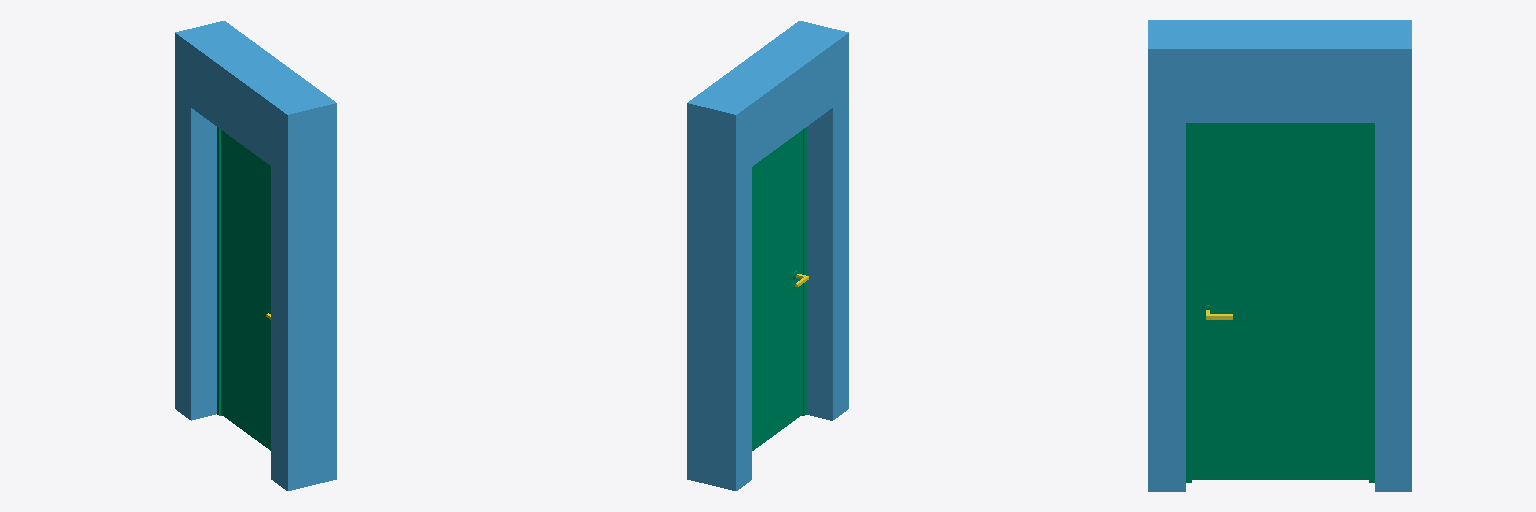
robot.urdf — partnet_ec245748cbad16b1d747a43c11e738e9:
<?xml version="1.0" ?>
<robot name="partnet_ec245748cbad16b1d747a43c11e738e9">
	<link name="base"/>
	<link name="link_0">
		<visual name="outside_frame-1">
			<origin xyz="0 0 0"/>
			<geometry>
				<mesh filename="textured_objs/original-1.obj"/>
			</geometry>
		</visual>
		<visual name="outside_frame-1">
			<origin xyz="0 0 0"/>
			<geometry>
				<mesh filename="textured_objs/original-2.obj"/>
			</geometry>
		</visual>
		<visual name="outside_frame-1">
			<origin xyz="0 0 0"/>
			<geometry>
				<mesh filename="textured_objs/original-3.obj"/>
			</geometry>
		</visual>
		<collision>
			<origin xyz="0 0 0"/>
			<geometry>
				<mesh filename="textured_objs/original-1.obj"/>
			</geometry>
		</collision>
		<collision>
			<origin xyz="0 0 0"/>
			<geometry>
				<mesh filename="textured_objs/original-2.obj"/>
			</geometry>
		</collision>
		<collision>
			<origin xyz="0 0 0"/>
			<geometry>
				<mesh filename="textured_objs/original-3.obj"/>
			</geometry>
		</collision>
	</link>
	<joint name="joint_0" type="fixed">
		<origin rpy="1.570796326794897 0 -1.570796326794897" xyz="0 0 0"/>
		<child link="link_0"/>
		<parent link="base"/>
	</joint>
	<link name="link_1">
		<visual name="surface_board-19">
			<origin xyz="0.3114736542059362 -0.74903 0.00446620785853713"/>
			<geometry>
				<mesh filename="textured_objs/original-5.obj"/>
			</geometry>
		</visual>
		<visual name="fixed_part-17">
			<origin xyz="0.3114736542059362 -0.74903 0.00446620785853713"/>
			<geometry>
				<mesh filename="textured_objs/original-9.obj"/>
			</geometry>
		</visual>
		<visual name="fixed_part-15">
			<origin xyz="0.3114736542059362 -0.74903 0.00446620785853713"/>
			<geometry>
				<mesh filename="textured_objs/original-12.obj"/>
			</geometry>
		</visual>
		<collision>
			<origin xyz="0.3114736542059362 -0.74903 0.00446620785853713"/>
			<geometry>
				<mesh filename="textured_objs/original-5.obj"/>
			</geometry>
		</collision>
		<collision>
			<origin xyz="0.3114736542059362 -0.74903 0.00446620785853713"/>
			<geometry>
				<mesh filename="textured_objs/original-9.obj"/>
			</geometry>
		</collision>
		<collision>
			<origin xyz="0.3114736542059362 -0.74903 0.00446620785853713"/>
			<geometry>
				<mesh filename="textured_objs/original-12.obj"/>
			</geometry>
		</collision>
	</link>
	<joint name="joint_1" type="revolute">
		<origin xyz="-0.3114736542059362 0.74903 -0.00446620785853713"/>
		<axis xyz="0 1 0"/>
		<child link="link_1"/>
		<parent link="link_0"/>
		<limit lower="0.0" upper="1.5707963267948966"/>
	</joint>
	<link name="link_2">
		<visual name="movable_part-18">
			<origin xyz="-0.2386302230391824 0.26779581099866157 -0.05032100000000006"/>
			<geometry>
				<mesh filename="textured_objs/original-10.obj"/>
			</geometry>
		</visual>
		<visual name="movable_part-16">
			<origin xyz="-0.2386302230391824 0.26779581099866157 -0.05032100000000006"/>
			<geometry>
				<mesh filename="textured_objs/original-13.obj"/>
			</geometry>
		</visual>
		<collision>
			<origin xyz="-0.2386302230391824 0.26779581099866157 -0.05032100000000006"/>
			<geometry>
				<mesh filename="textured_objs/original-10.obj"/>
			</geometry>
		</collision>
		<collision>
			<origin xyz="-0.2386302230391824 0.26779581099866157 -0.05032100000000006"/>
			<geometry>
				<mesh filename="textured_objs/original-13.obj"/>
			</geometry>
		</collision>
	</link>
	<joint name="joint_2" type="revolute">
		<origin xyz="0.5501038772451186 -1.0168258109986614 0.05478720785853719"/>
		<axis xyz="0 0 1"/>
		<child link="link_2"/>
		<parent link="link_1"/>
		<limit lower="-0.0" upper="1.5707963267948966"/>
	</joint>
</robot>

--- Facts derived from the render (not from the file) ---
3 views of the same robot in one strip: view 1: azimuth 30°, elevation 25°; view 2: azimuth 150°, elevation 25°; view 3: azimuth 270°, elevation 25° (orthographic).
Model partnet_ec245748cbad16b1d747a43c11e738e9 with 4 links and 3 joints (2 revolute, 1 fixed), rooted at base, posed all joints at 0.
Links seen in each view (by area): view 1: link_0, link_1; view 2: link_0, link_1; view 3: link_1, link_0.
Link boxes in pixels (x1=…): link_0: x1=175, y1=21, x2=336, y2=490; link_1: x1=217, y1=127, x2=270, y2=450; link_0: x1=687, y1=21, x2=848, y2=490; link_1: x1=752, y1=127, x2=806, y2=450; link_1: x1=1186, y1=123, x2=1374, y2=482; link_0: x1=1148, y1=20, x2=1411, y2=491.
Bounding box of the posed robot: 0.2279 × 0.8983 × 1.66 m (x, y, z).
Meshes: 8 distinct files referenced, 8 mesh visuals loaded (8 OBJ).
